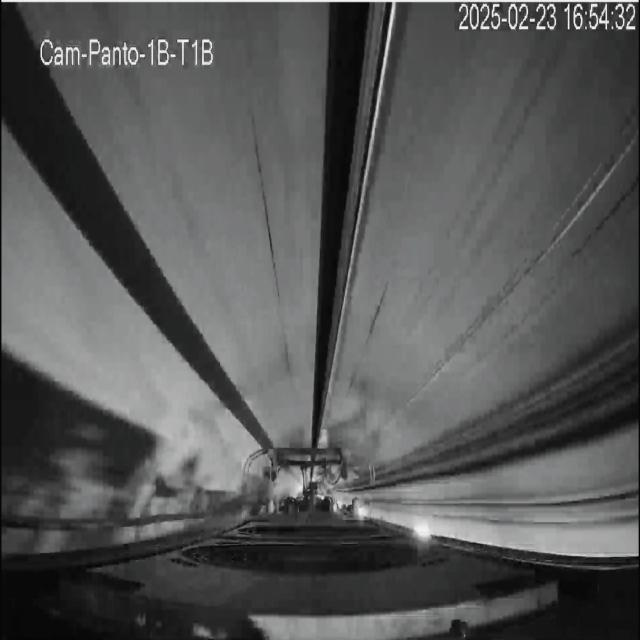Camera Stamp: (37, 30, 220, 70)
Date Stamp: (458, 3, 636, 33)
No - Spark: (239, 347, 359, 479), (412, 513, 434, 549)
